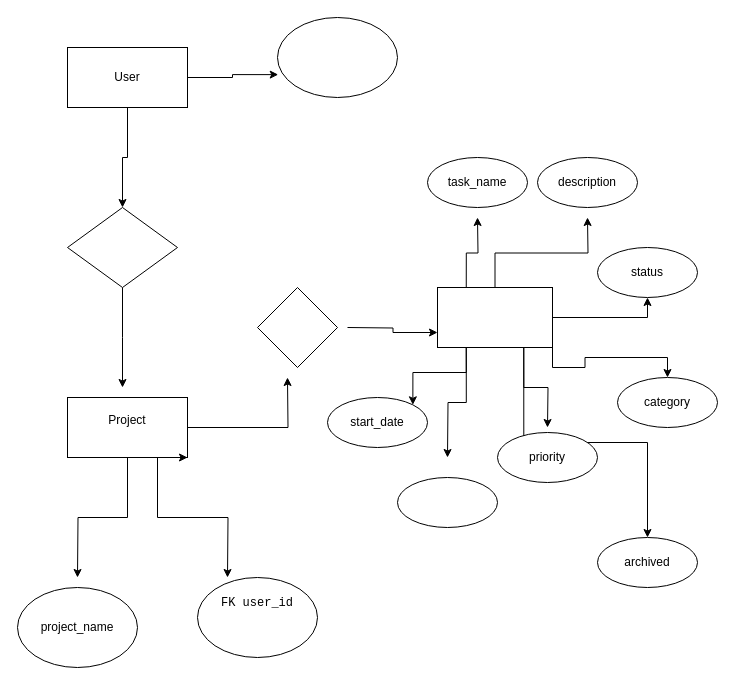
The diagram is 735 pixels wide and 685 high, and some of its shapes have lost their labels. Each missing label, with the centre of its shape:
contain: the point at 297,327
Creat: the point at 122,247
end_date: the point at 447,502
name: the point at 337,57
Task: the point at 494,317
